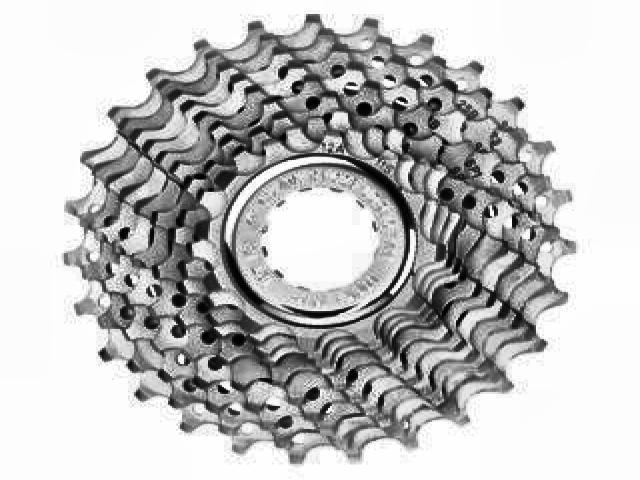cassette: (68, 14, 579, 460)
